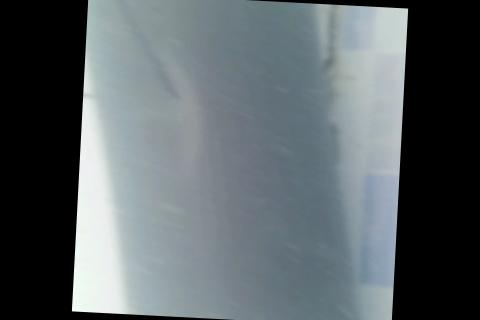keretakan: (83, 0, 188, 102)
